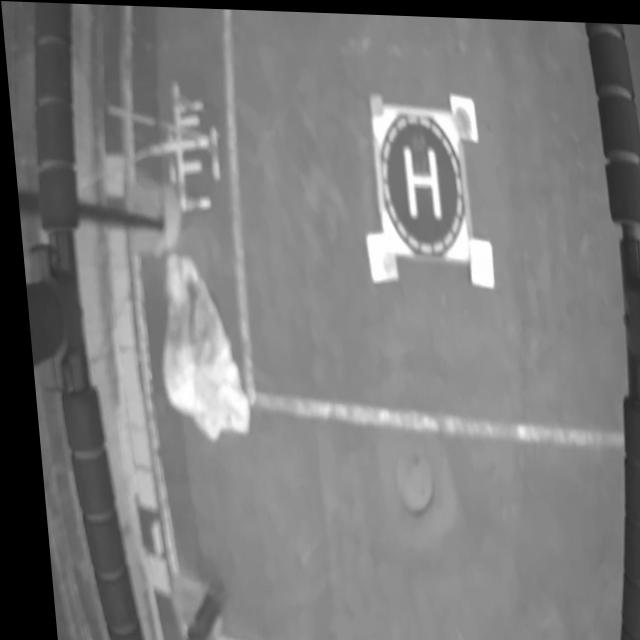Helipad: (400, 142, 437, 215)
